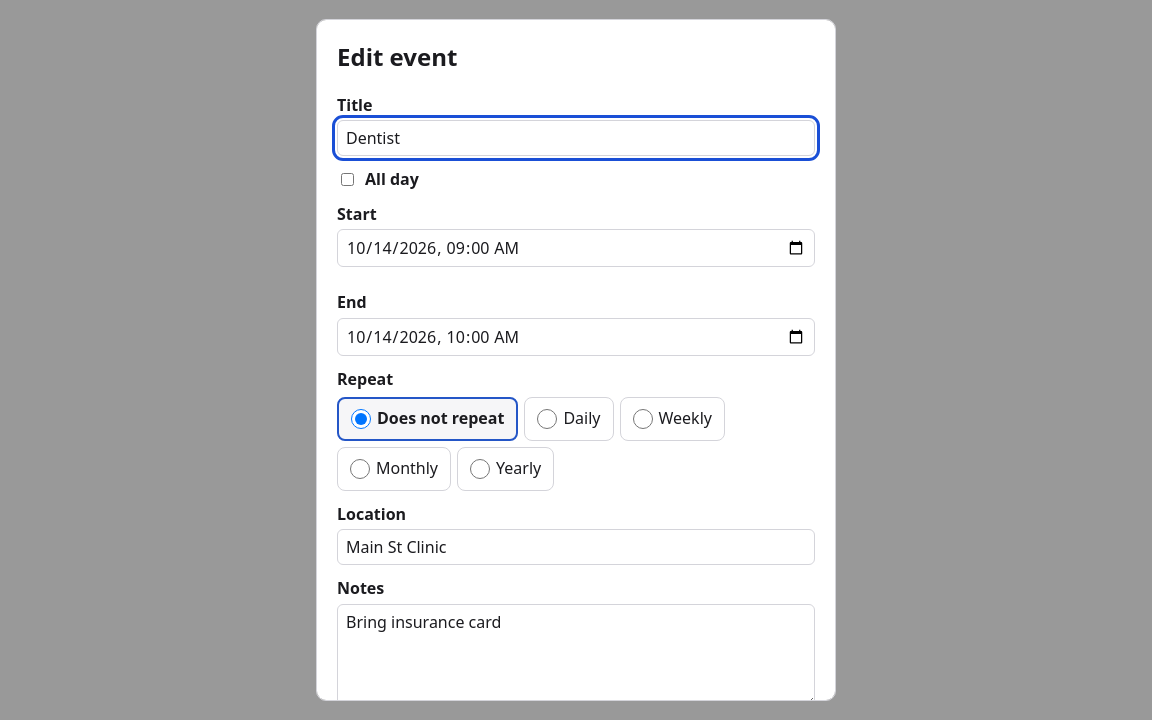
Test case: EventFormDialog (repeat, US1) › asks before discarding unsaved repeat changes
What coordinates should you click on to do the following:
click the radio button labelled "Yearly"
I would click on:
 (480, 469)
Its box is [470, 459, 490, 479].
(page scrolled)
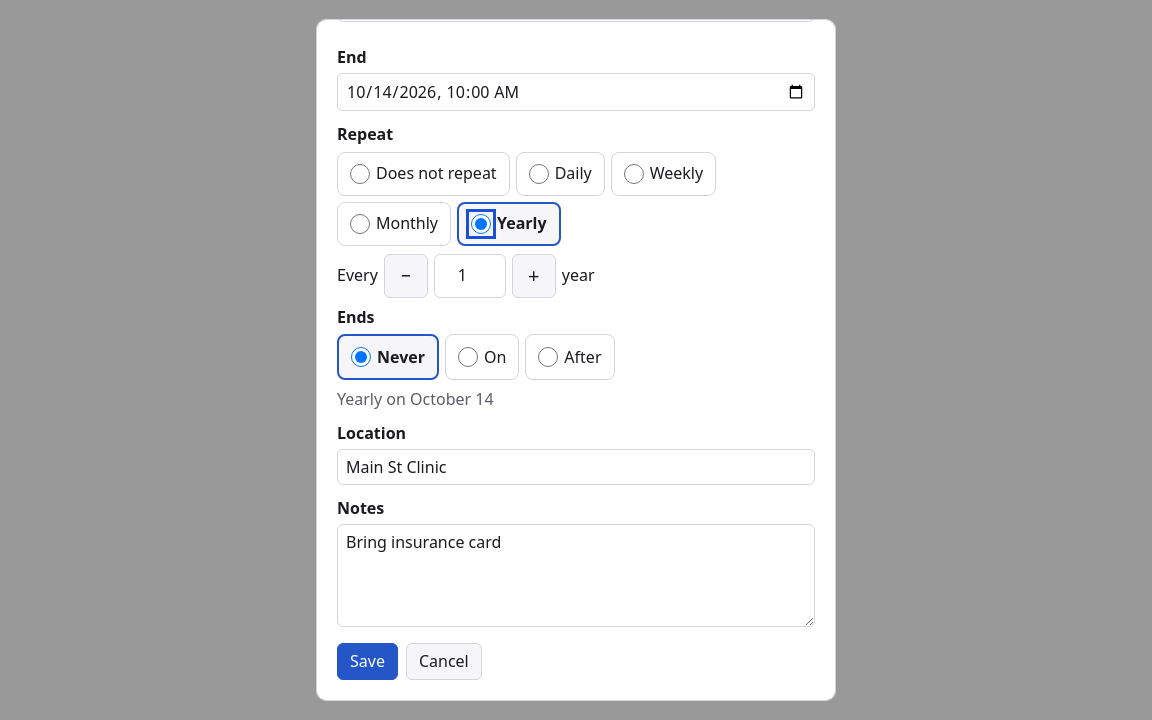
What coordinates should you click on to do the following:
click the button "Cancel"
I would click on:
 (444, 661)
Its box is [406, 643, 482, 680].
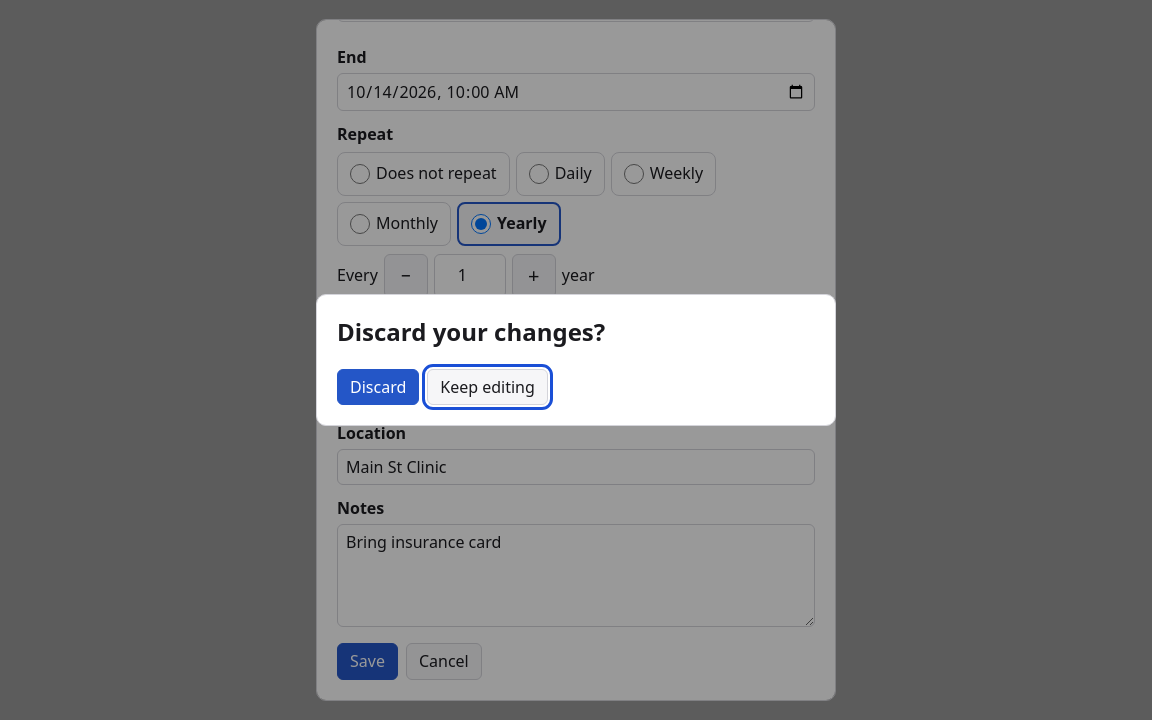
Check: the dialog "Discard your changes?" is shown, box [316, 294, 836, 426]
